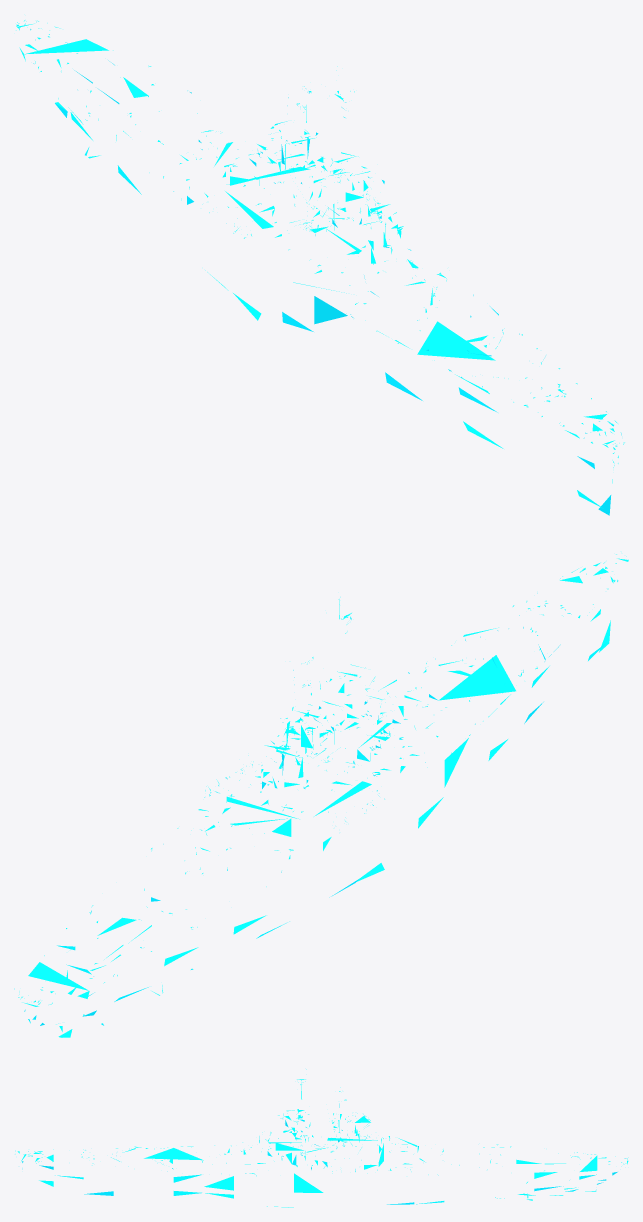
Rendered from France.glb.
3 views of the same model, one above another, from view 1: azimuth 30°, elevation 25°; view 2: azimuth 150°, elevation 25°; view 3: azimuth 270°, elevation 25° (orthographic). The views are drawn at different scales.
Size of the model in its own units: 2.63 by 4.44 by 19.1.
